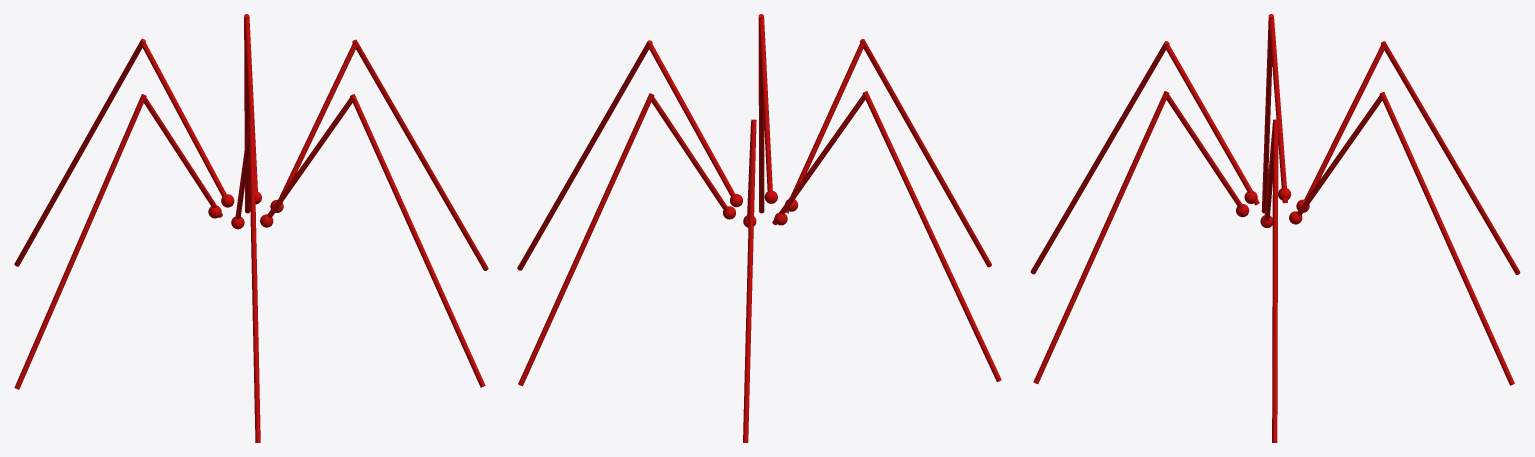
The model's file is longTailFibre.obj.
The picture shows the model from 3 angles, left to right: view 1: azimuth 30°, elevation 25°; view 2: azimuth 150°, elevation 25°; view 3: azimuth 270°, elevation 25°; orthographic projection.
Visible parts, largest first — view 1: Cylinder.011_Cylinder.017; view 2: Cylinder.011_Cylinder.017; view 3: Cylinder.011_Cylinder.017.
Part boxes in pixels (x1,y1,x2,y2): Cylinder.011_Cylinder.017: (14,14,488,442); Cylinder.011_Cylinder.017: (517,14,1001,442); Cylinder.011_Cylinder.017: (1030,14,1520,442).
Bounding box in the file's own units: 4.15 × 2.17 × 3.68.
